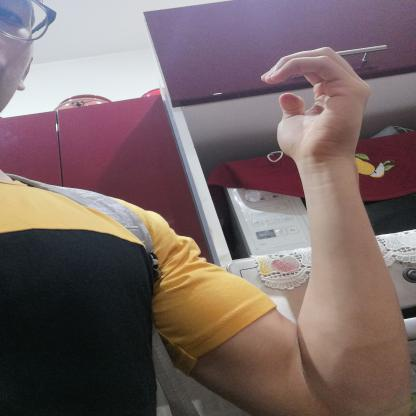JEEM: (244, 37, 380, 172)
